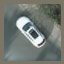car: (15, 15, 47, 49)
